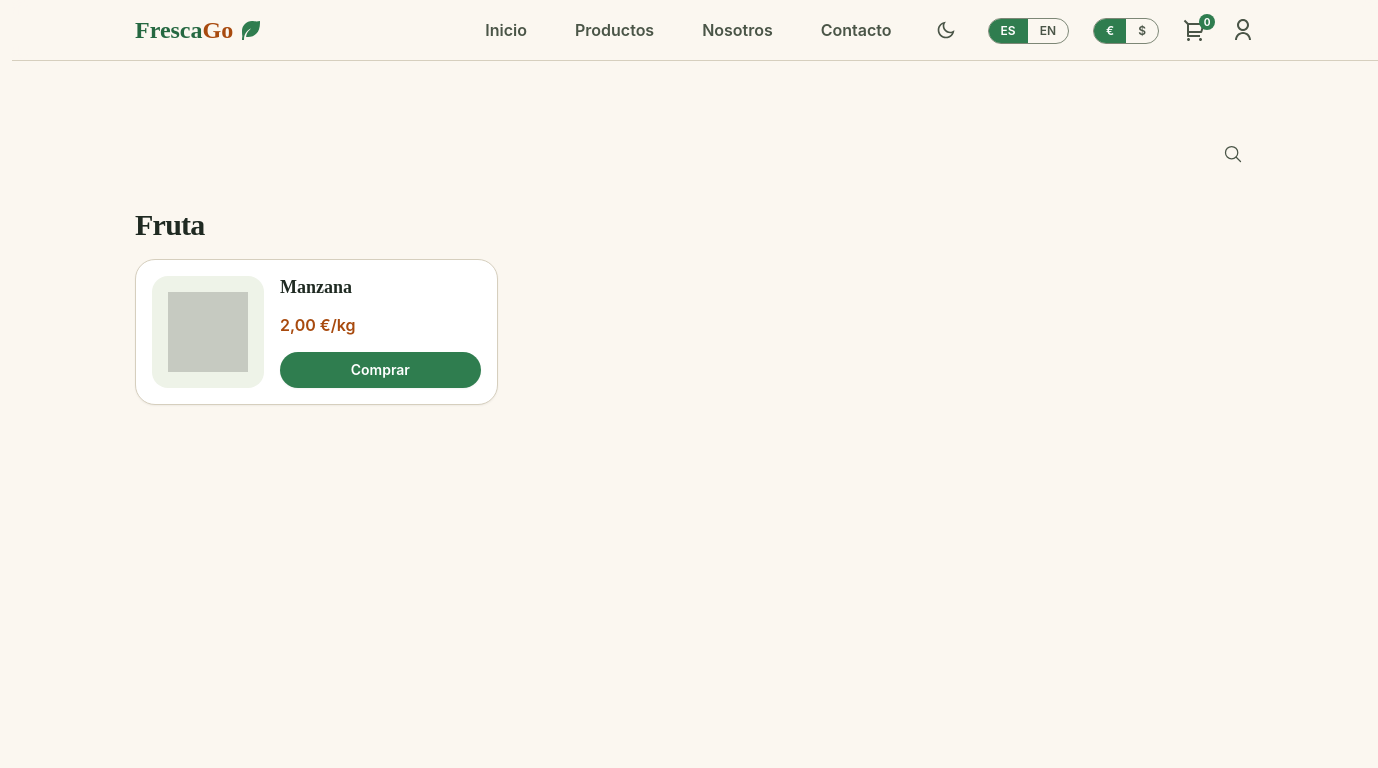
Test: locale routing › refetches the catalog in the other language when switching
Click the link with aria-label "EN English".
click(1048, 30)  # box [1040,22,1056,38]
(page scrolled)
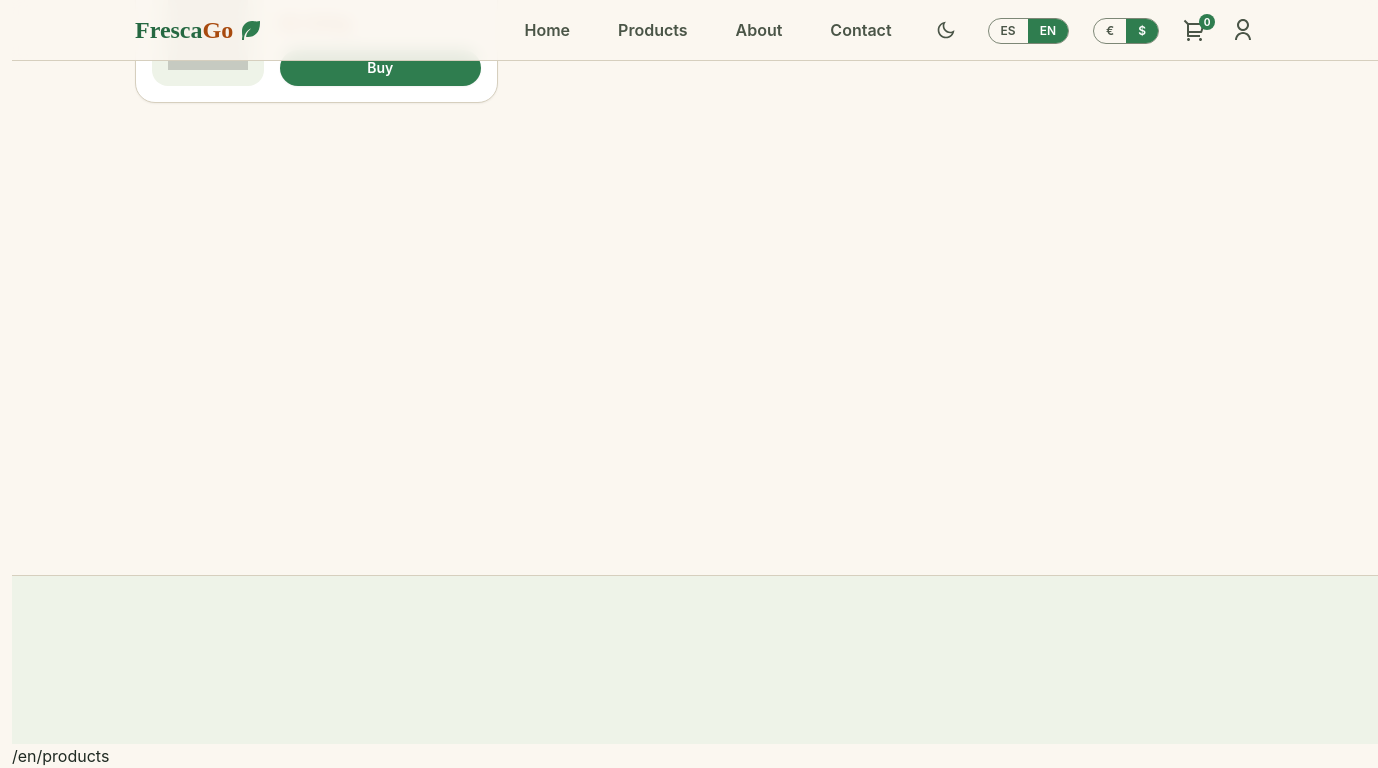
Now the text with test id "where" reads "/en/products", box [12,746,109,766]
